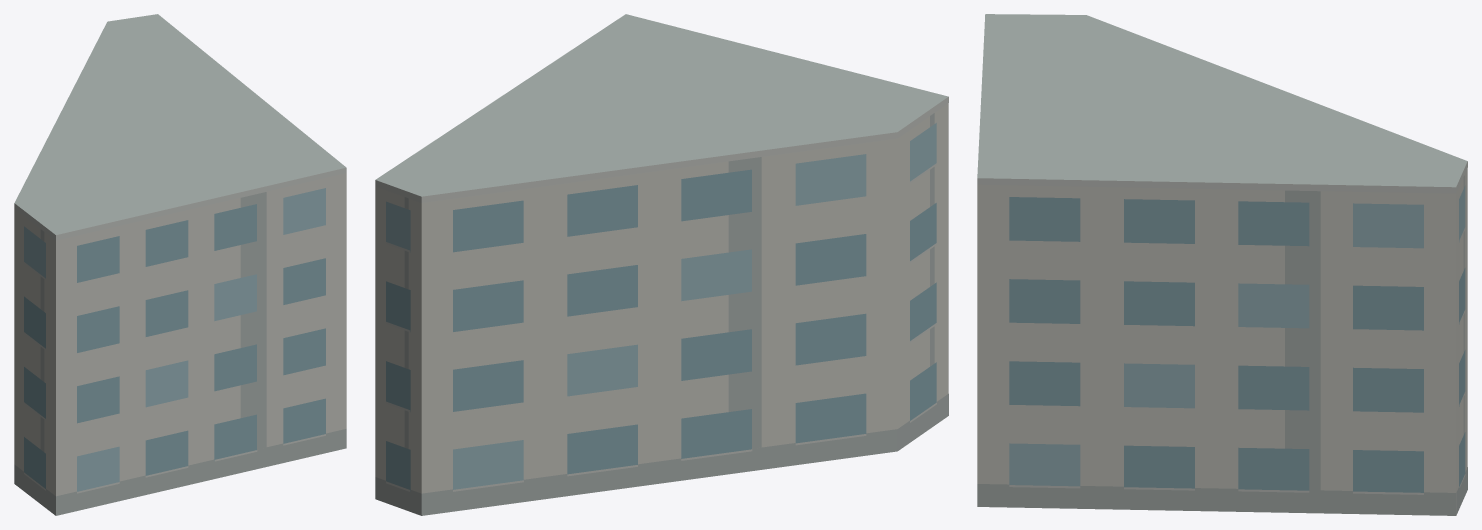
Rendered from survey-upis-32793349.glb.
The picture shows the model from 3 angles, left to right: view 1: azimuth 30°, elevation 25°; view 2: azimuth 150°, elevation 25°; view 3: azimuth 270°, elevation 25°; orthographic projection. The views are drawn at different scales.
Parts seen in each view (by area): view 1: survey-upis-32793349.tmp; view 2: survey-upis-32793349.tmp; view 3: survey-upis-32793349.tmp.
Boxes of the visible parts, <box> form: survey-upis-32793349.tmp: <box>14,14,346,515</box>; survey-upis-32793349.tmp: <box>375,14,948,515</box>; survey-upis-32793349.tmp: <box>977,14,1467,515</box>.
Size of the model in its own units: 13.8 by 12.2 by 16.51.
